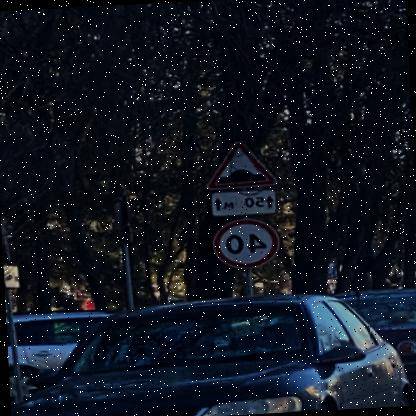speedlimit: (213, 215, 283, 269)
